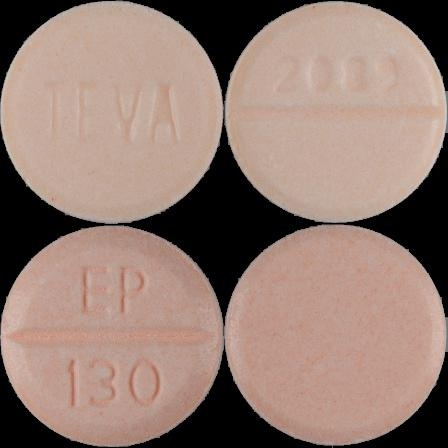67046-274: (0, 0, 224, 224)
